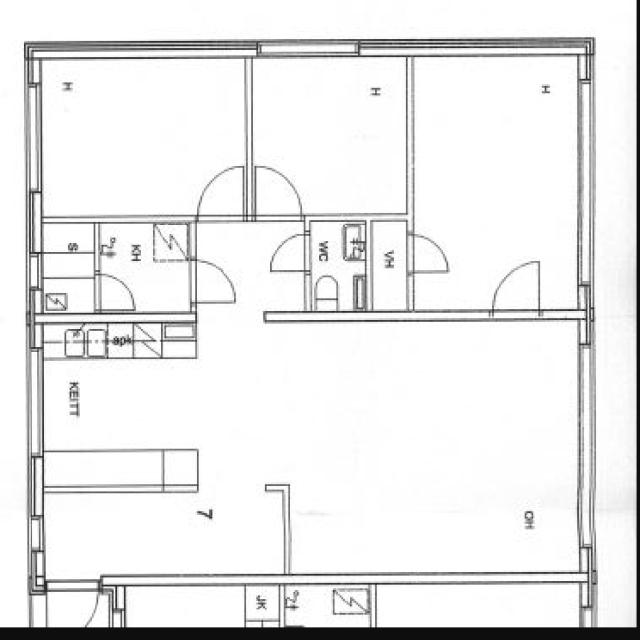door: (196, 162, 247, 221), (492, 257, 542, 316), (252, 160, 301, 220), (190, 254, 238, 305), (408, 231, 452, 275), (95, 268, 137, 312), (268, 229, 310, 273)
window: (22, 79, 49, 197), (260, 40, 358, 60), (27, 510, 47, 558), (26, 247, 44, 297)
zone: (407, 52, 584, 304), (35, 59, 238, 220), (255, 55, 412, 218), (31, 485, 292, 577), (98, 222, 194, 315), (306, 218, 367, 313), (34, 231, 100, 318), (369, 218, 410, 312)
